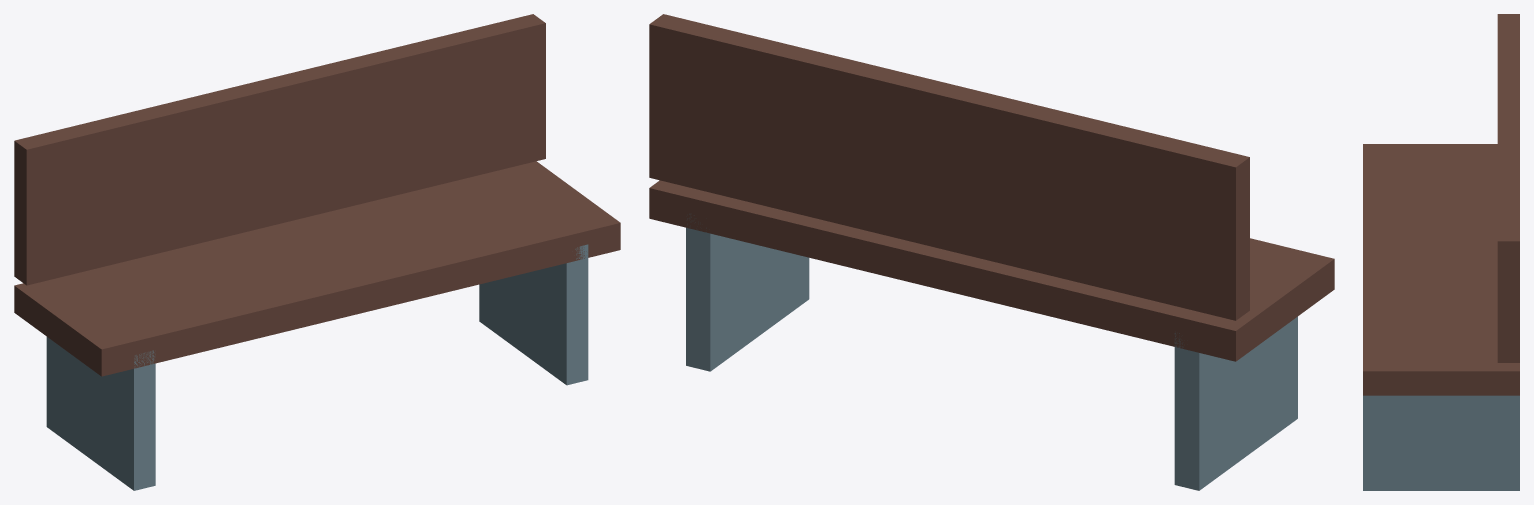
File: park_bench.glb
The picture shows the model from 3 angles, left to right: view 1: azimuth 30°, elevation 25°; view 2: azimuth 150°, elevation 25°; view 3: azimuth 270°, elevation 25°; orthographic projection. The views are drawn at different scales.
Bounding box in the file's own units: 2.4 × 1.3 × 0.7.
